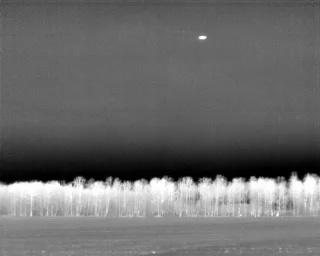DRONE: (195, 31, 210, 45)
